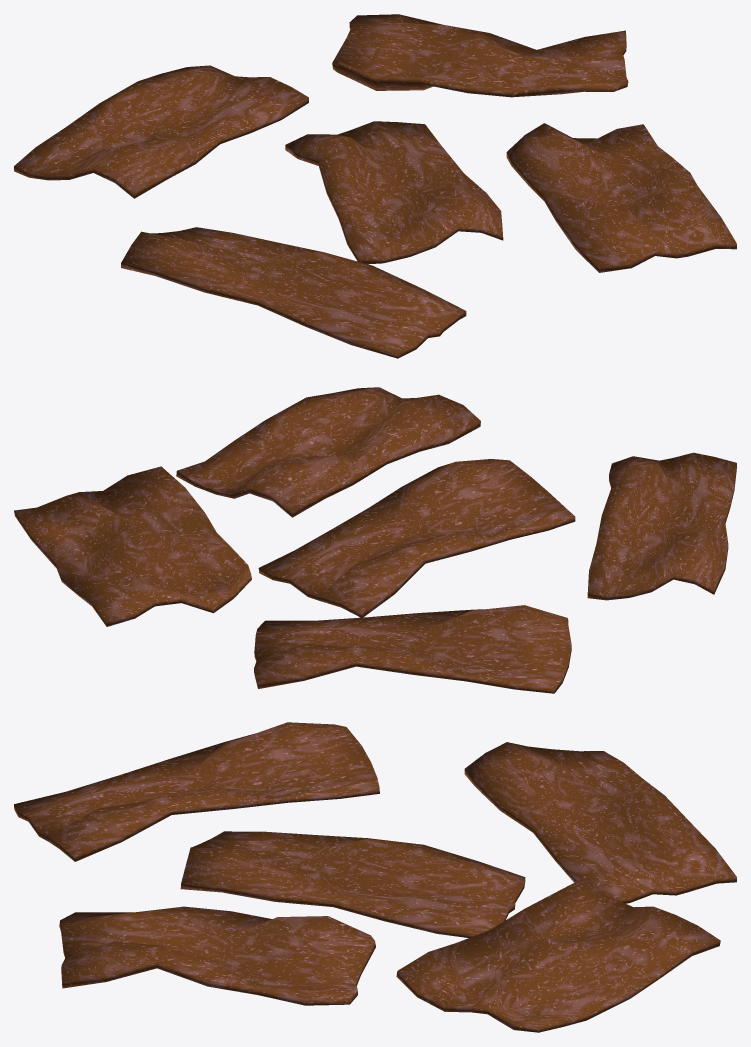
The model's file is yakiniku_01.glb.
3 views of the same model, one above another, from view 1: azimuth 30°, elevation 25°; view 2: azimuth 150°, elevation 25°; view 3: azimuth 270°, elevation 25° (orthographic). The views are drawn at different scales.
Visible parts, largest first — view 1: yakiniku.005, yakiniku.004, yakiniku.001, yakiniku.003, yakiniku.002; view 2: yakiniku.003, yakiniku.002, yakiniku.001, yakiniku.004, yakiniku.005; view 3: yakiniku.002, yakiniku.001, yakiniku.003, yakiniku.005, yakiniku.004.
Boxes of the visible parts, x1=… form: yakiniku.005: x1=121, y1=227, x2=466, y2=358; yakiniku.004: x1=506, y1=123, x2=736, y2=272; yakiniku.001: x1=14, y1=65, x2=308, y2=198; yakiniku.003: x1=285, y1=121, x2=503, y2=264; yakiniku.002: x1=332, y1=14, x2=628, y2=97; yakiniku.003: x1=258, y1=459, x2=575, y2=617; yakiniku.002: x1=14, y1=466, x2=251, y2=626; yakiniku.001: x1=254, y1=605, x2=571, y2=693; yakiniku.004: x1=176, y1=387, x2=480, y2=517; yakiniku.005: x1=587, y1=452, x2=736, y2=600; yakiniku.002: x1=396, y1=876, x2=720, y2=1032; yakiniku.001: x1=464, y1=742, x2=736, y2=903; yakiniku.003: x1=180, y1=831, x2=525, y2=937; yakiniku.005: x1=14, y1=722, x2=379, y2=861; yakiniku.004: x1=59, y1=906, x2=375, y2=1005.
Bounding box in the file's own units: 0.1808 × 0.0133 × 0.1797.
Materials: 1 (1 with a texture image).
